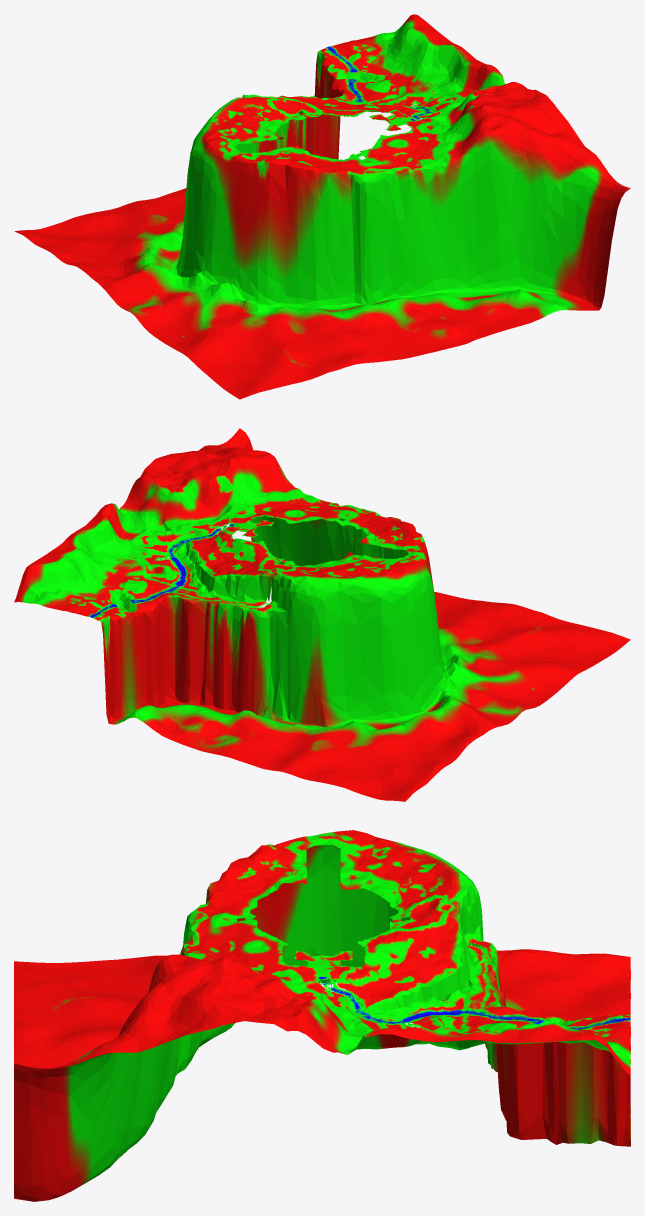
File: castle_terrain_unity_collision.glb
The picture shows the model from 3 angles, top to bottom: view 1: azimuth 30°, elevation 25°; view 2: azimuth 150°, elevation 25°; view 3: azimuth 270°, elevation 25°; orthographic projection. The views are drawn at different scales.
Parts seen in each view (by area): view 1: UnityTerrain.001; view 2: UnityTerrain.001; view 3: UnityTerrain.001.
Boxes of the visible parts, x1,y1,x2,y2 form: UnityTerrain.001: (14,14,630,399); UnityTerrain.001: (14,428,630,801); UnityTerrain.001: (14,830,630,1201).
Size of the model in its own units: 300 by 118 by 300.
1 material, 1 textured.
